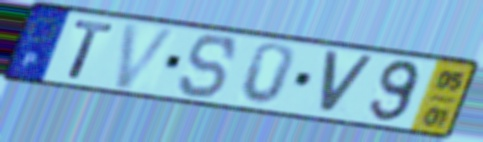0: (238, 41, 299, 108)
9: (368, 58, 424, 125)
S: (176, 33, 240, 101)
T: (66, 18, 119, 82)
V: (111, 21, 182, 92), (317, 48, 378, 118)
